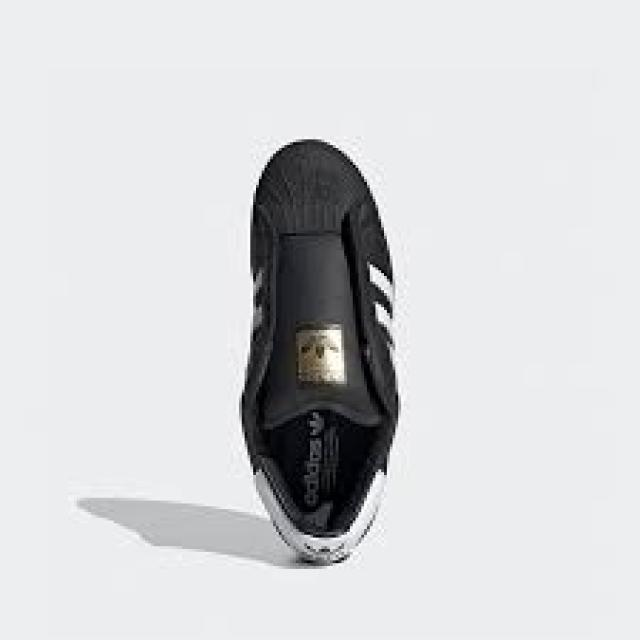shoe: (234, 138, 407, 568)
